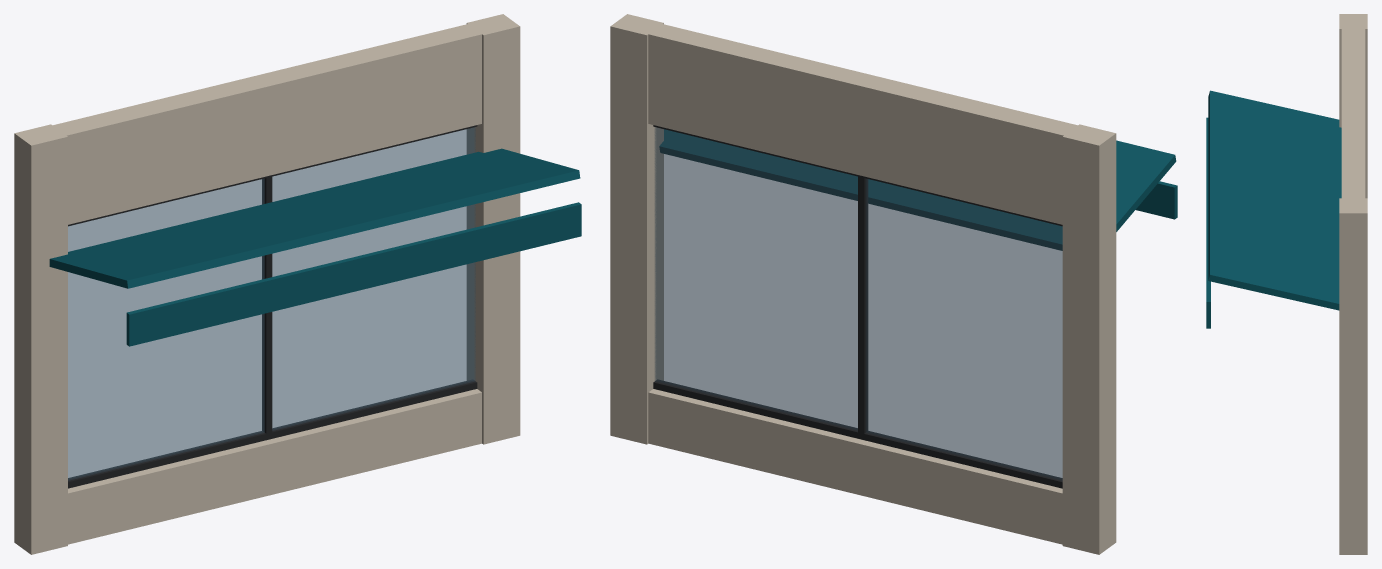
File: KIT_Storefront_4m_Plaster_Teal.glb
3 renders of one model, left to right at view 1: azimuth 30°, elevation 25°; view 2: azimuth 150°, elevation 25°; view 3: azimuth 270°, elevation 25°, orthographic. The views are drawn at different scales.
Parts seen in each view (by area): view 1: KIT_Storefront_4m_Plaster_Teal; view 2: KIT_Storefront_4m_Plaster_Teal; view 3: KIT_Storefront_4m_Plaster_Teal.
Boxes of the visible parts, left/top/right/bottom form: KIT_Storefront_4m_Plaster_Teal: left=14, top=14, right=581, bottom=554; KIT_Storefront_4m_Plaster_Teal: left=610, top=14, right=1177, bottom=554; KIT_Storefront_4m_Plaster_Teal: left=1206, top=14, right=1367, bottom=554.
Bounding box in the file's own units: 4 × 3.2 × 1.37.
